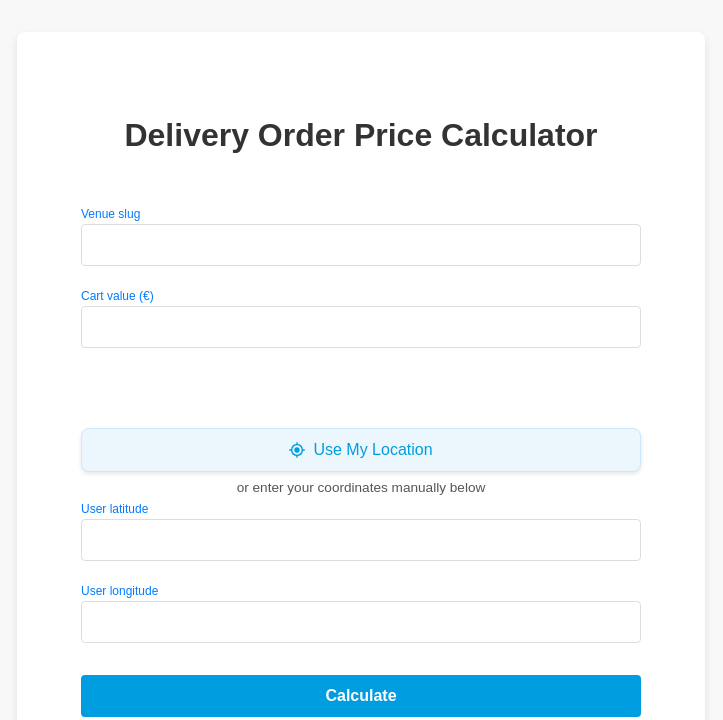
Scenario: DeliveryCalculator › shows validation errors for empty fields
Click the button "Calculate". click: (361, 696)
box: [81,675,641,717]
(page scrolled)
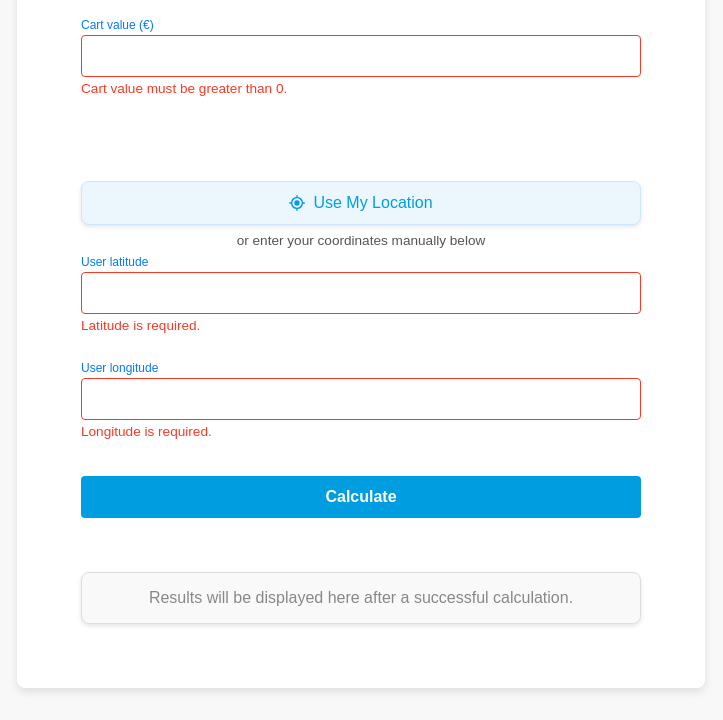
Check: the text "Cart value must be greater than 0." is shown, box [81,77,287,101]
Check: the text "Latitude is required." is shown, box [81,314,200,338]
Check: the text "Longitude is required." is shown, box [81,420,212,444]
